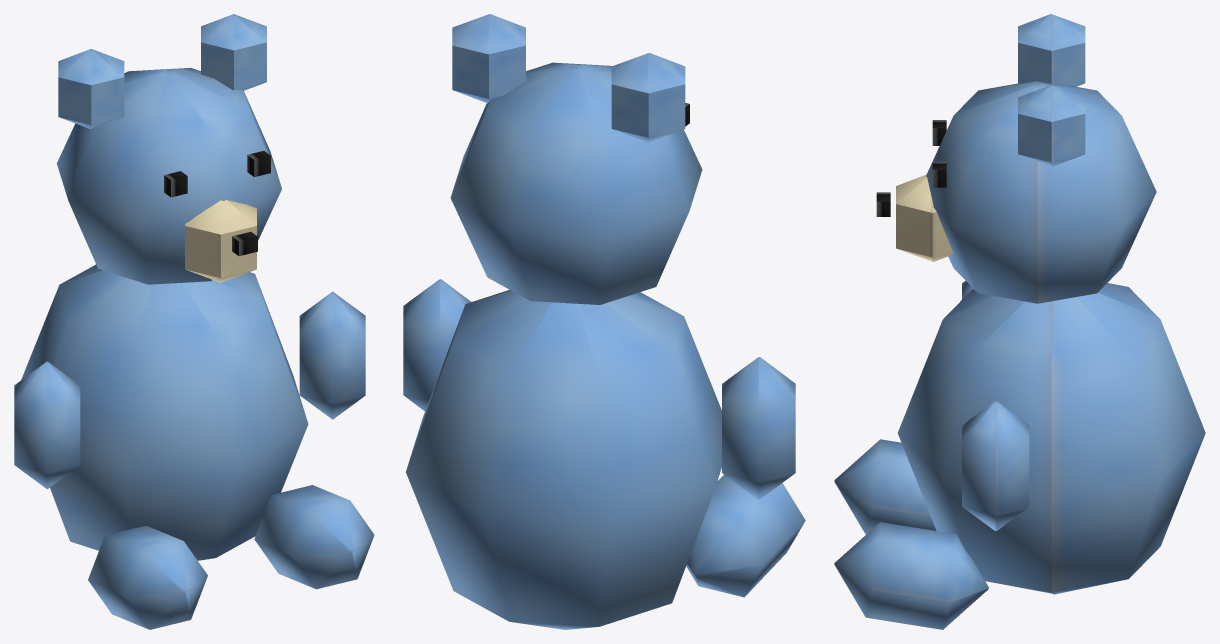
The model's file is prize_bear.obj.
3 renders of one model, left to right at view 1: azimuth 30°, elevation 25°; view 2: azimuth 150°, elevation 25°; view 3: azimuth 270°, elevation 25°, orthographic. The views are drawn at different scales.
Visible parts, largest first — view 1: prize_bear; view 2: prize_bear; view 3: prize_bear.
Part boxes in pixels (x1,y1,x2,y2): prize_bear: [14, 14, 374, 629]; prize_bear: [403, 14, 805, 629]; prize_bear: [834, 14, 1205, 629].
Size of the model in its own units: 0.2954 by 0.4285 by 0.2653.
Materials: 1 (1 with a texture image).
